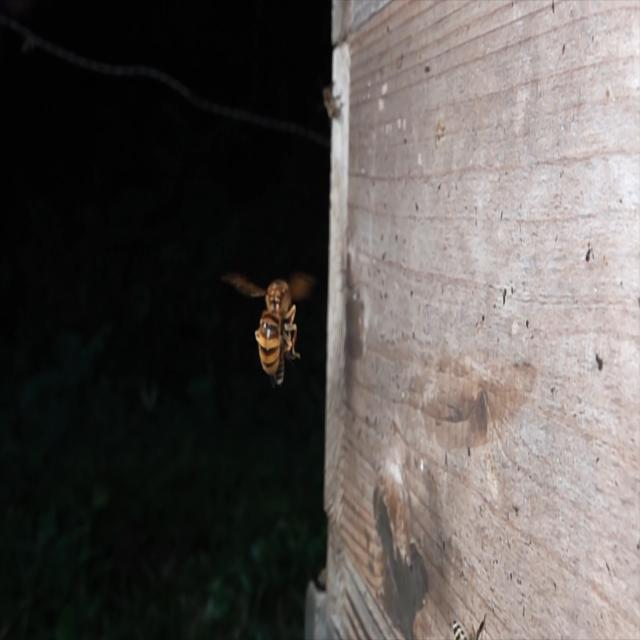Hornets: (250, 273, 300, 381)
